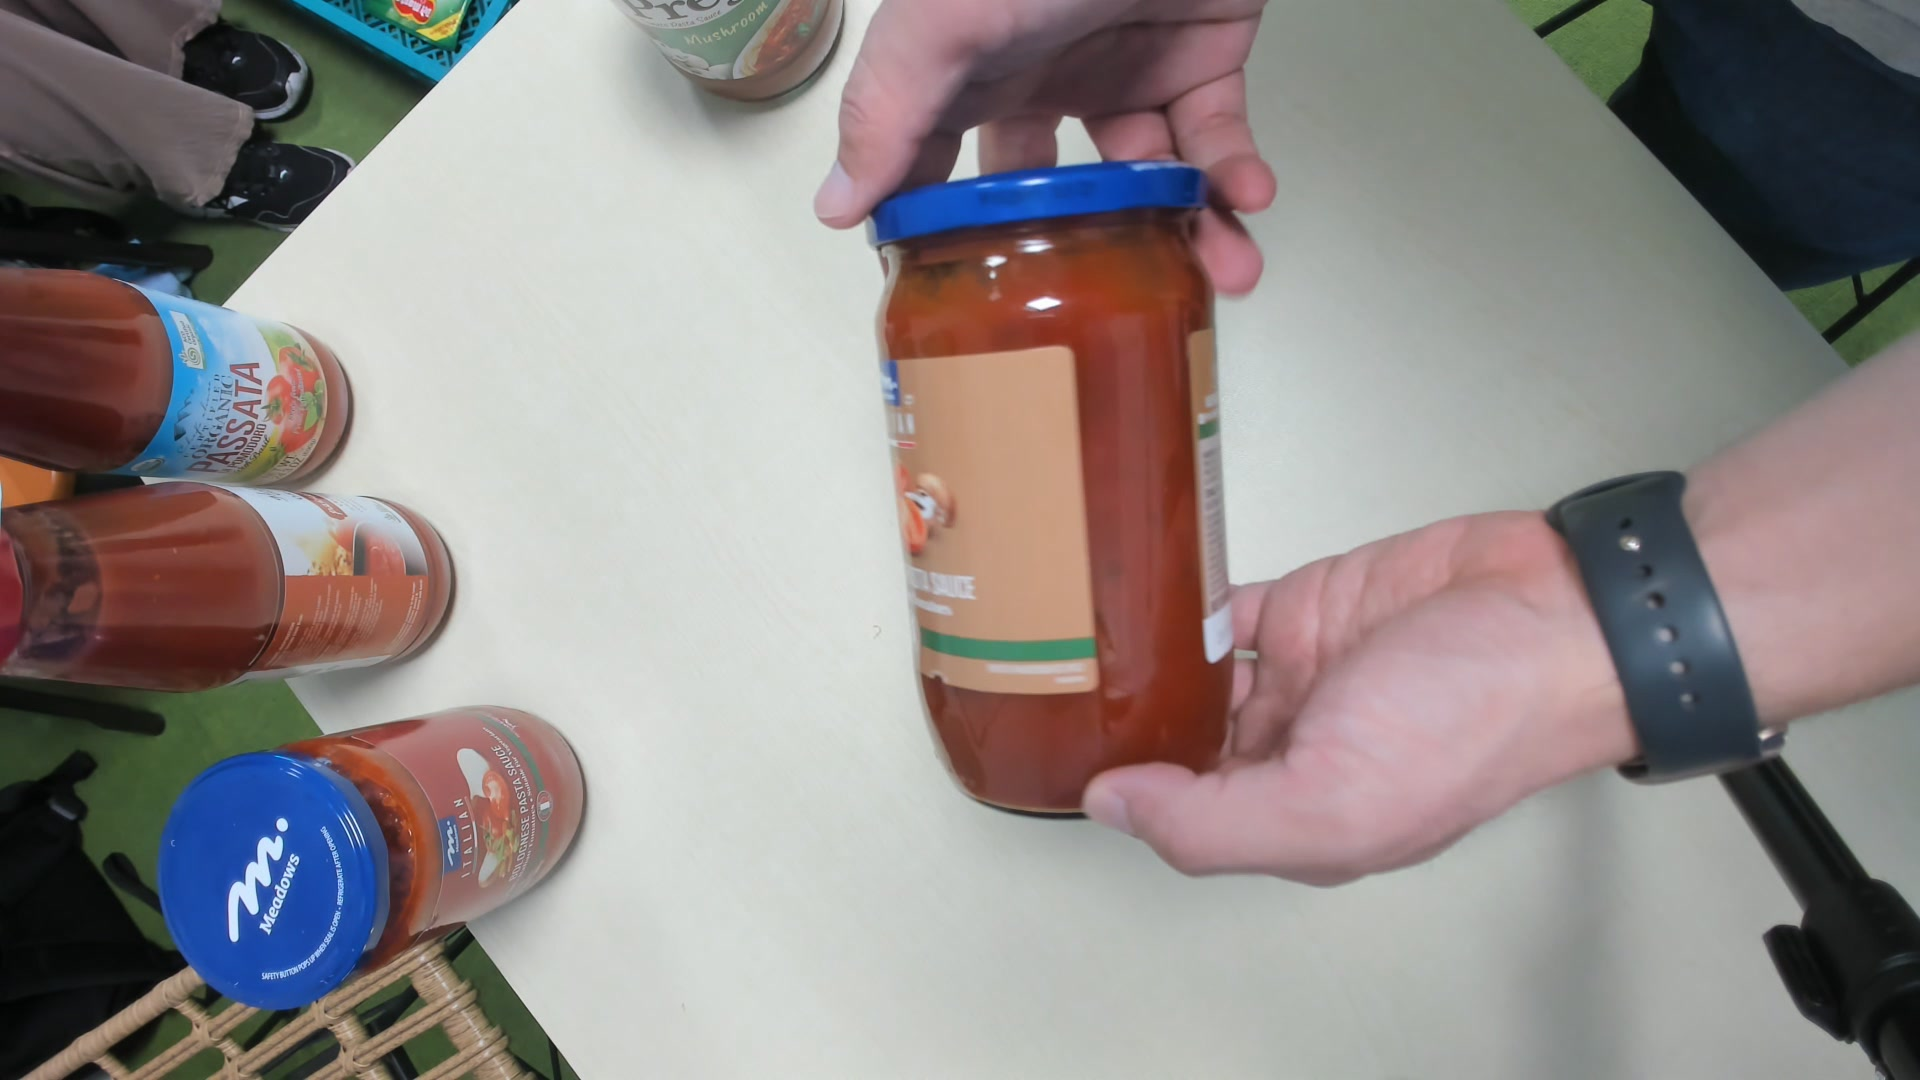PastaSauce_600-699g_Halal_NonHealthy: (876, 167, 1236, 807)
